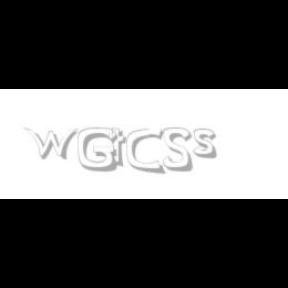C: (126, 128, 163, 174)
G: (77, 128, 117, 172)
S: (162, 128, 194, 172)
s: (193, 128, 221, 160)
t: (109, 128, 131, 168)
w: (24, 128, 83, 160)
